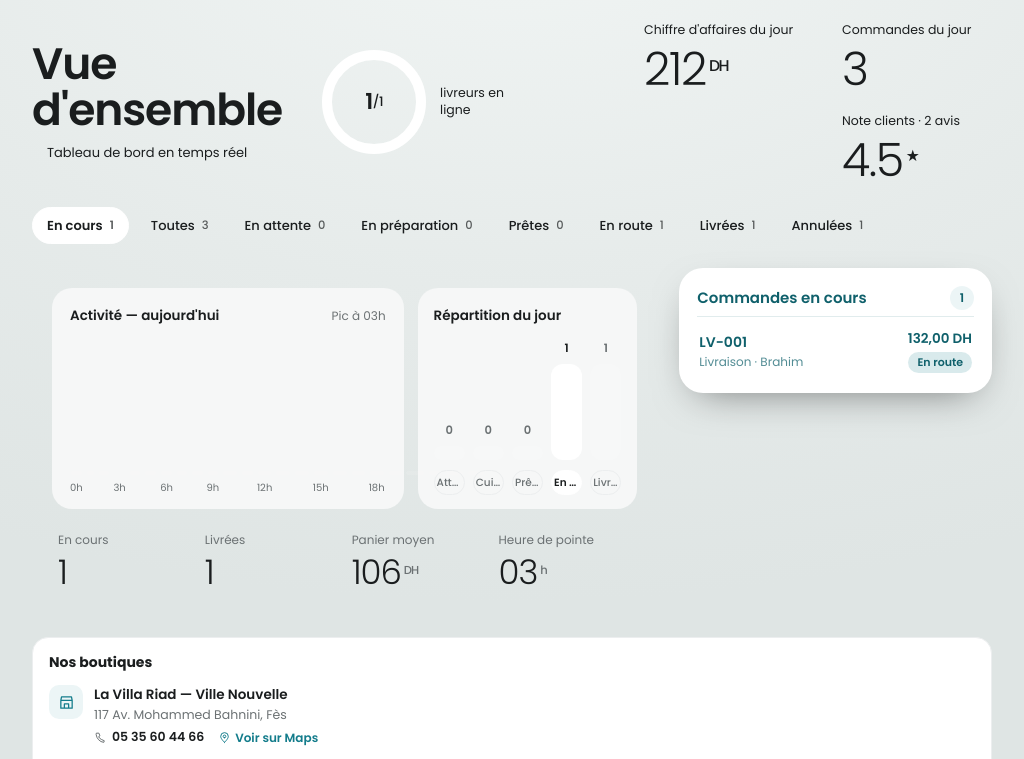
Test case: OverviewScreen › filtre la liste quand on choisit une pastille
The image size is (1024, 759).
What coordinates should you click on to do the following:
click the button "Livrées 1"
I would click on:
 (728, 225)
Its box is [686,206,770,244].
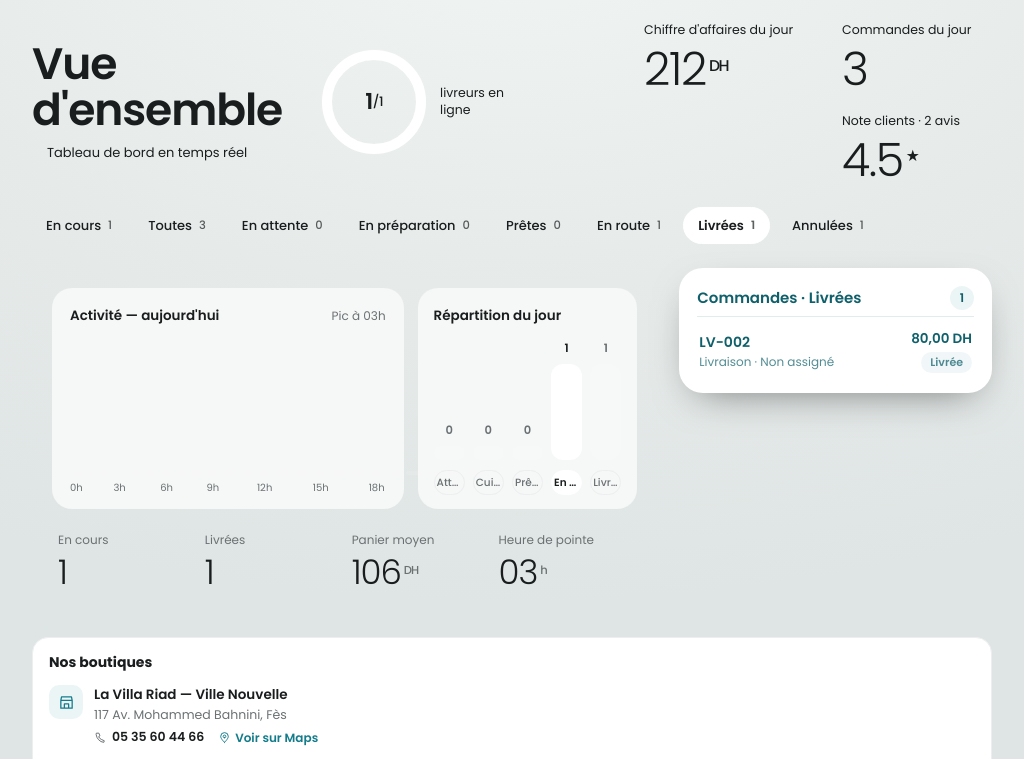
Check: the heading "Commandes · Livrées" is shown, box [697,287,862,309]
Check: the text "LV-002" is shown, box [699,332,750,352]
Check: the text "LV-001" is gone
What coordinates should you click on to do the following:
click the button "Toutes 3"
I would click on:
 (177, 225)
Its box is [134,206,220,244].
(page scrolled)
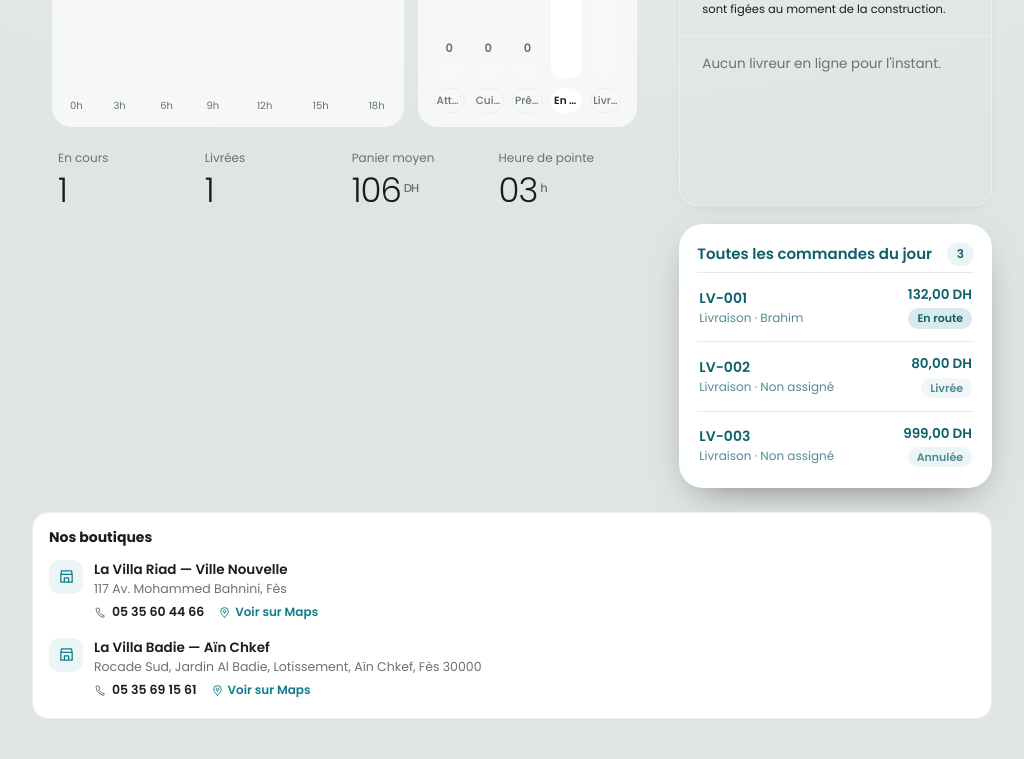
Check: the text "LV-003" is shown, box [699,426,750,446]
